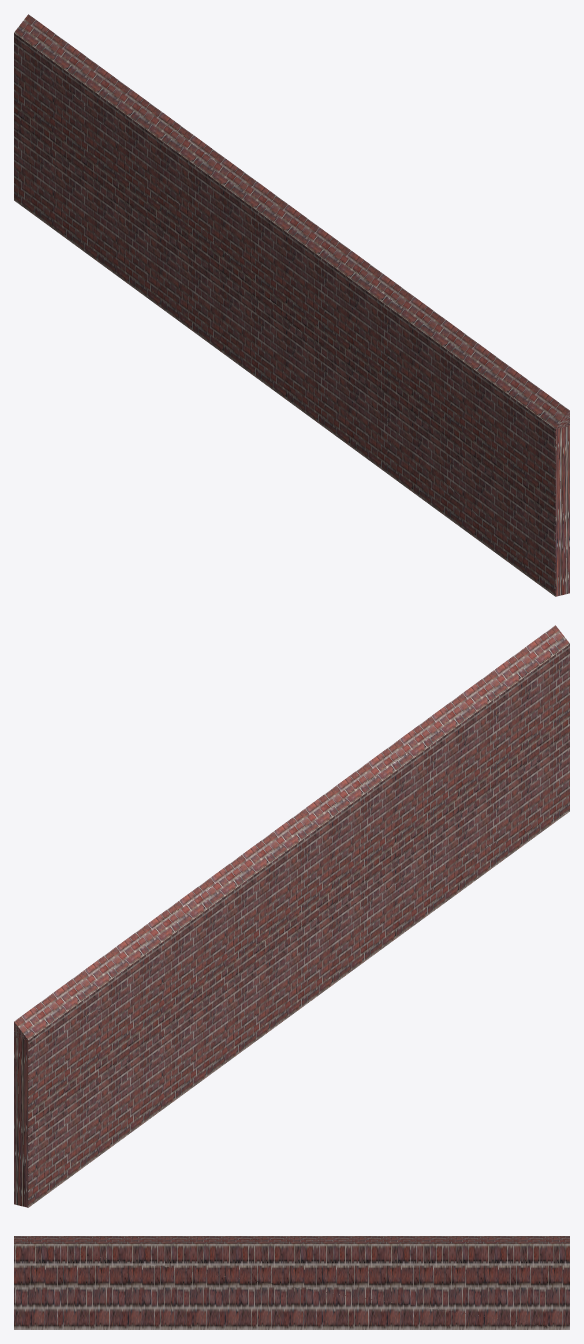
The model's file is Wall.obj.
3 renders of one model, top to bottom at view 1: azimuth 30°, elevation 25°; view 2: azimuth 150°, elevation 25°; view 3: azimuth 270°, elevation 25°, orthographic. The views are drawn at different scales.
Visible parts, largest first — view 1: Wall; view 2: Wall; view 3: Wall.
Part boxes in pixels (bbox=[...]): Wall: bbox=[14, 14, 569, 596]; Wall: bbox=[14, 625, 569, 1207]; Wall: bbox=[14, 1236, 569, 1329].
Bounding box in the file's own units: 2 × 24.21 × 130.
